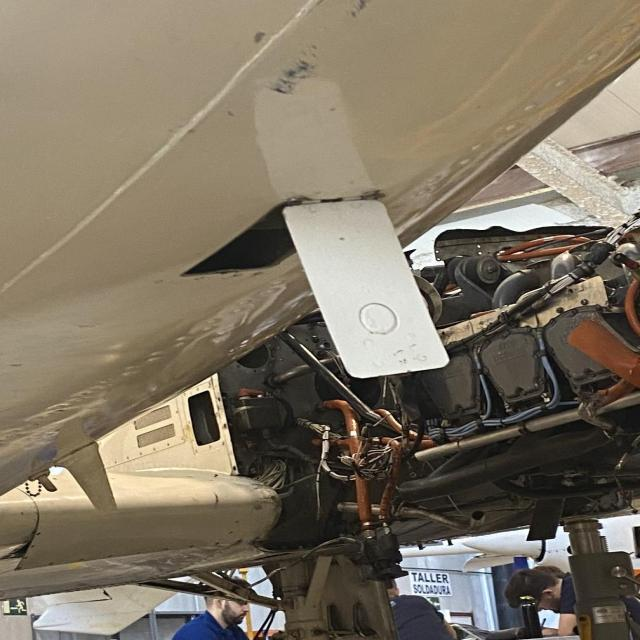Paint-off: (250, 29, 271, 46)
